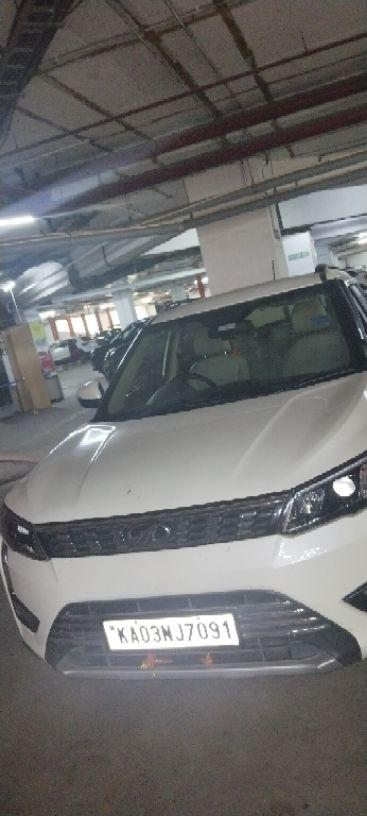license_plate: (100, 611, 241, 652)
